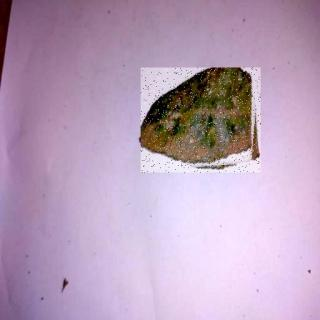Anthracnose: (142, 69, 262, 175)
